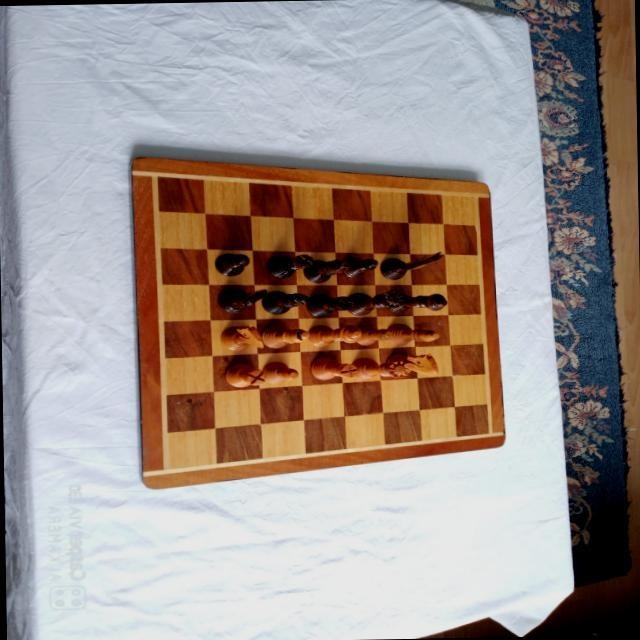black-bishop: (301, 258, 349, 284), (260, 290, 308, 314)
black-king: (385, 289, 447, 312)
black-knight: (380, 252, 444, 280), (217, 285, 267, 314)
black-pawn: (213, 252, 249, 278), (341, 256, 378, 279)
black-queen: (343, 290, 404, 317)
black-rook: (305, 292, 353, 319), (266, 253, 314, 279)
white-bishop: (384, 321, 439, 347), (259, 323, 310, 348)
white-king: (306, 323, 361, 348)
white-knight: (385, 351, 439, 376), (220, 324, 264, 351)
white-pawn: (261, 360, 299, 384), (354, 323, 390, 346)
white-queen: (350, 355, 410, 380)
white-rook: (310, 355, 358, 381), (224, 361, 266, 388)
